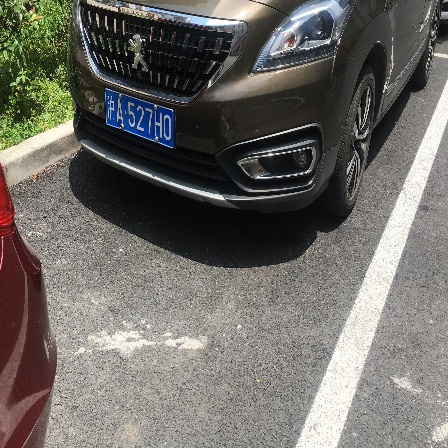plate: (99, 88, 181, 155)
